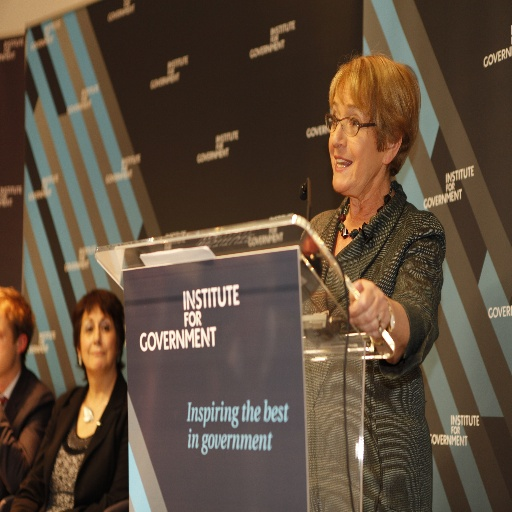hand: (350, 276, 402, 350)
